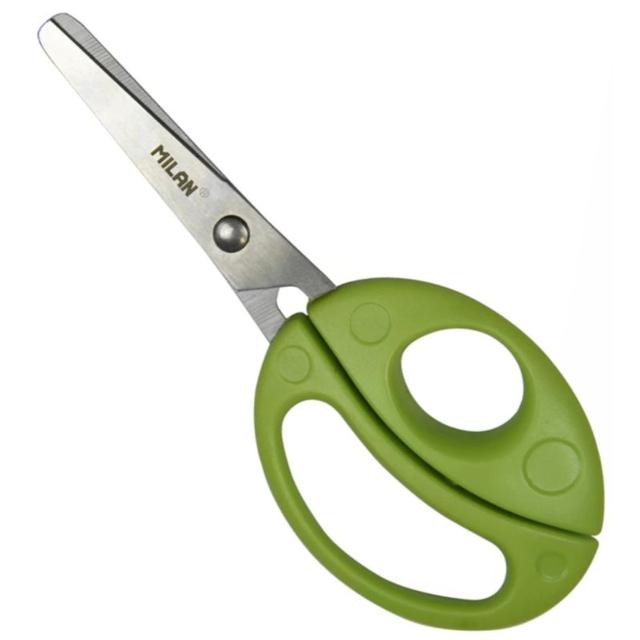scissor: (31, 17, 587, 640)
